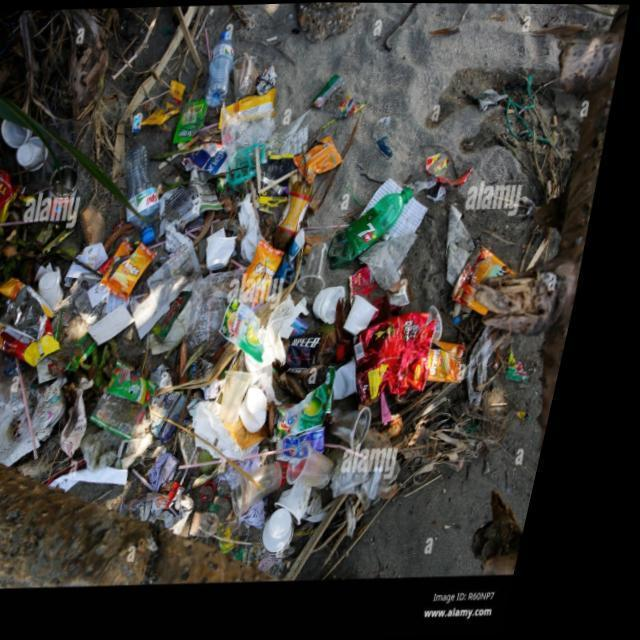Disposable: (254, 461, 303, 516), (307, 440, 355, 487), (348, 406, 390, 449), (309, 242, 339, 299), (237, 369, 269, 422), (285, 506, 317, 552), (326, 285, 357, 323), (235, 55, 261, 100), (23, 137, 55, 171), (51, 271, 76, 310), (6, 119, 37, 147)
Garbage: (0, 9, 552, 551)
Plastic_Bag: (200, 268, 256, 354)
Plastic_bottle: (340, 187, 420, 268), (131, 144, 169, 242), (284, 173, 320, 249), (208, 23, 236, 106)
Plastic_wraper: (369, 311, 450, 402), (0, 277, 75, 365), (109, 361, 173, 439), (293, 366, 352, 440), (464, 247, 526, 313), (225, 87, 281, 159), (169, 168, 230, 232), (114, 239, 167, 299), (235, 298, 280, 362), (300, 135, 349, 182), (316, 74, 368, 118), (149, 80, 189, 125), (166, 291, 203, 338), (0, 167, 31, 221), (443, 340, 481, 380), (179, 98, 212, 142), (82, 331, 112, 370), (197, 146, 233, 174), (187, 481, 201, 507), (304, 317, 323, 335)
